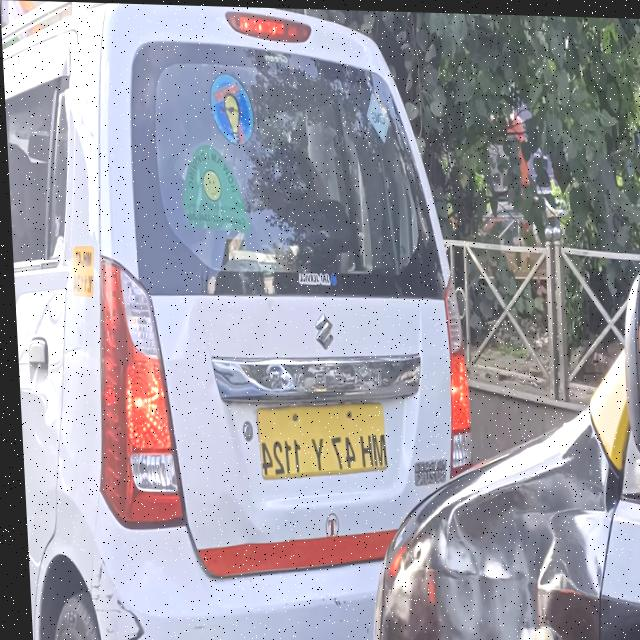plate: (248, 396, 383, 483)
